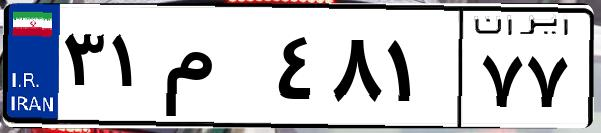1: (385, 28, 445, 110), (110, 28, 158, 98)
3: (57, 26, 110, 100)
4: (270, 28, 330, 110)
7: (475, 38, 525, 113), (525, 38, 570, 115)
8: (330, 28, 385, 110)
م: (158, 20, 270, 120)
